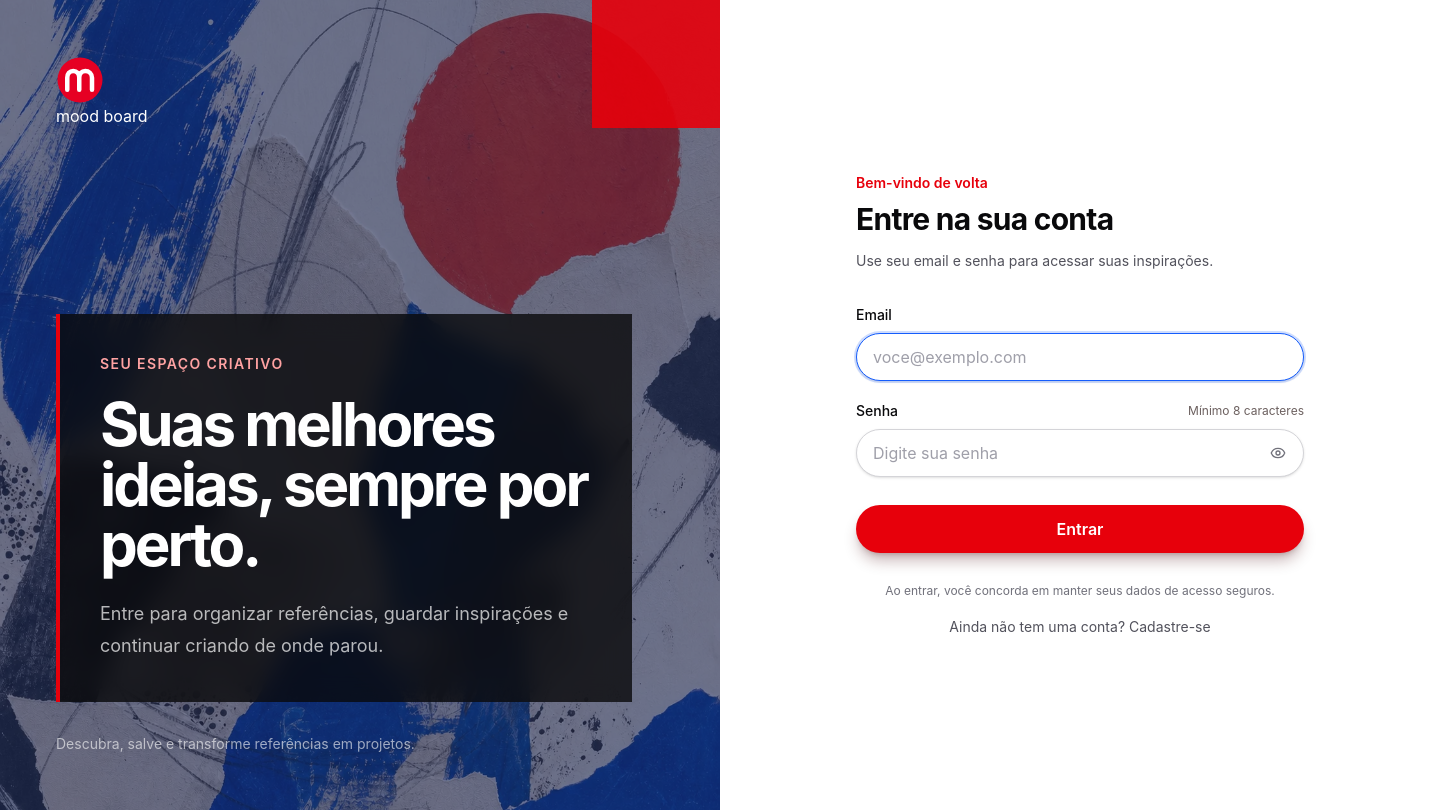
Test case: LoginPage › shows an authentication error returned by the API
Step 1. Type "user@example.com" into the field labelled "Email" → (1080,357), box [856, 333, 1304, 381]
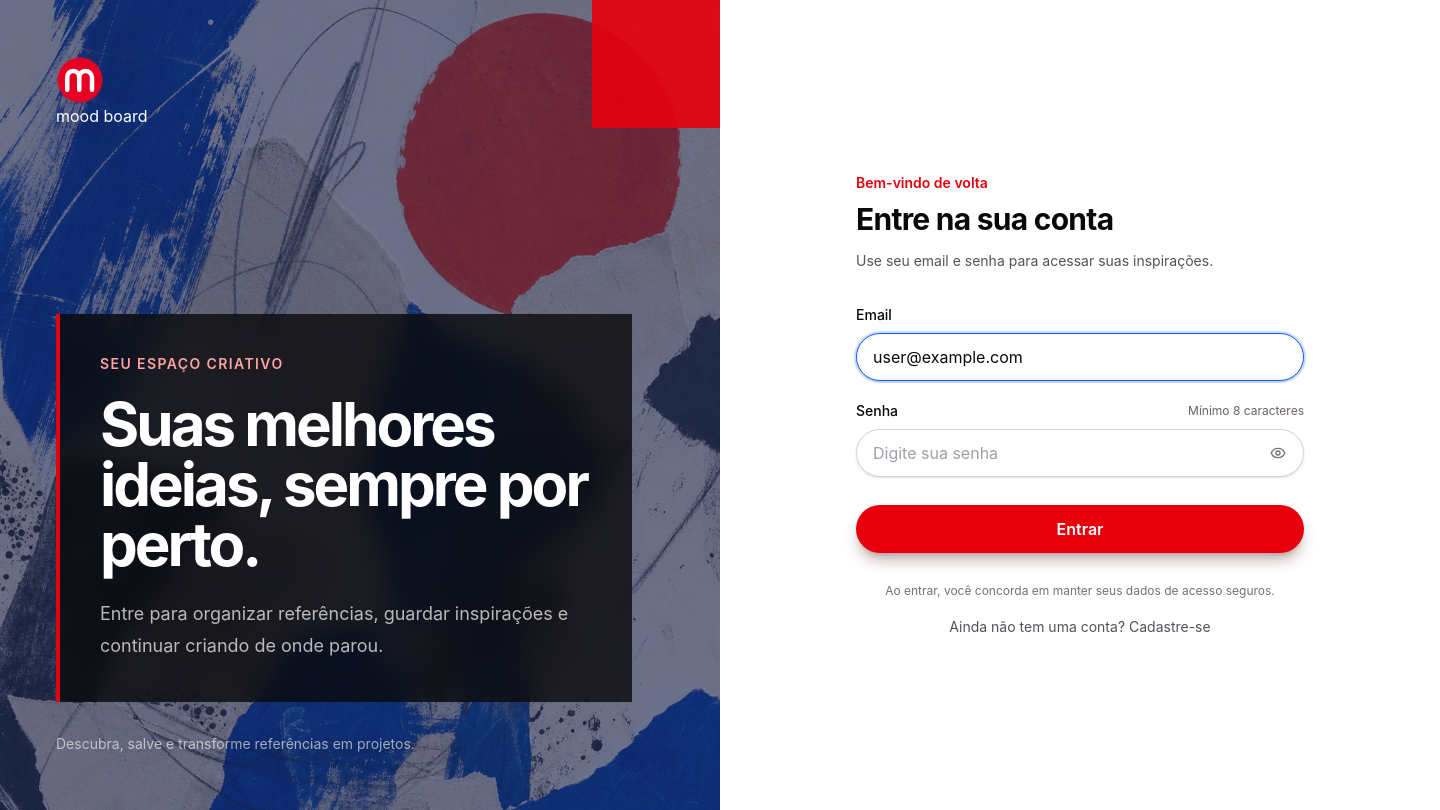
Step 2. Type "wrong-pass" into the password field labelled "Senha" → (1080,453), box [856, 429, 1304, 477]
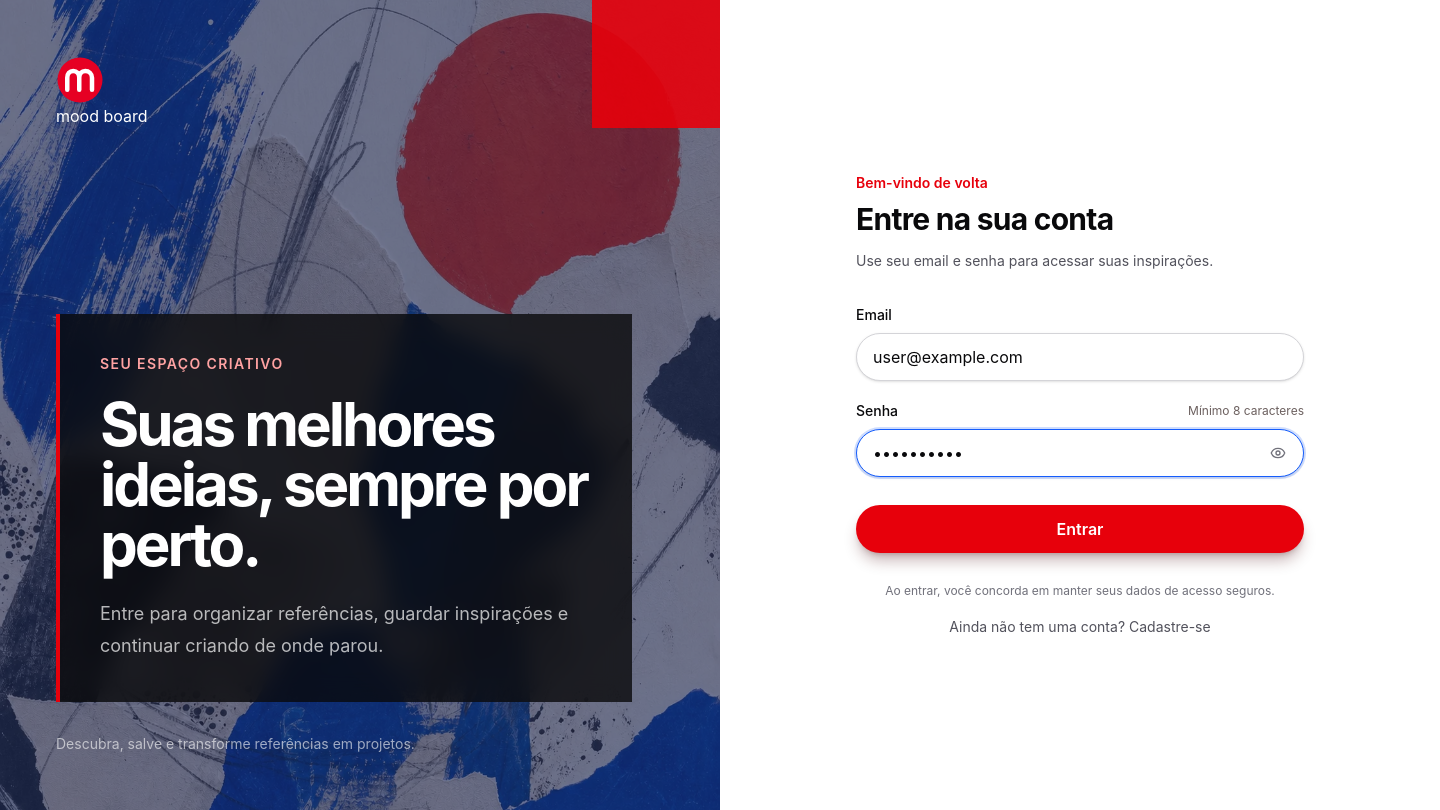
Step 3. Click the button "Entrar" → (1080,529), box [856, 505, 1304, 553]
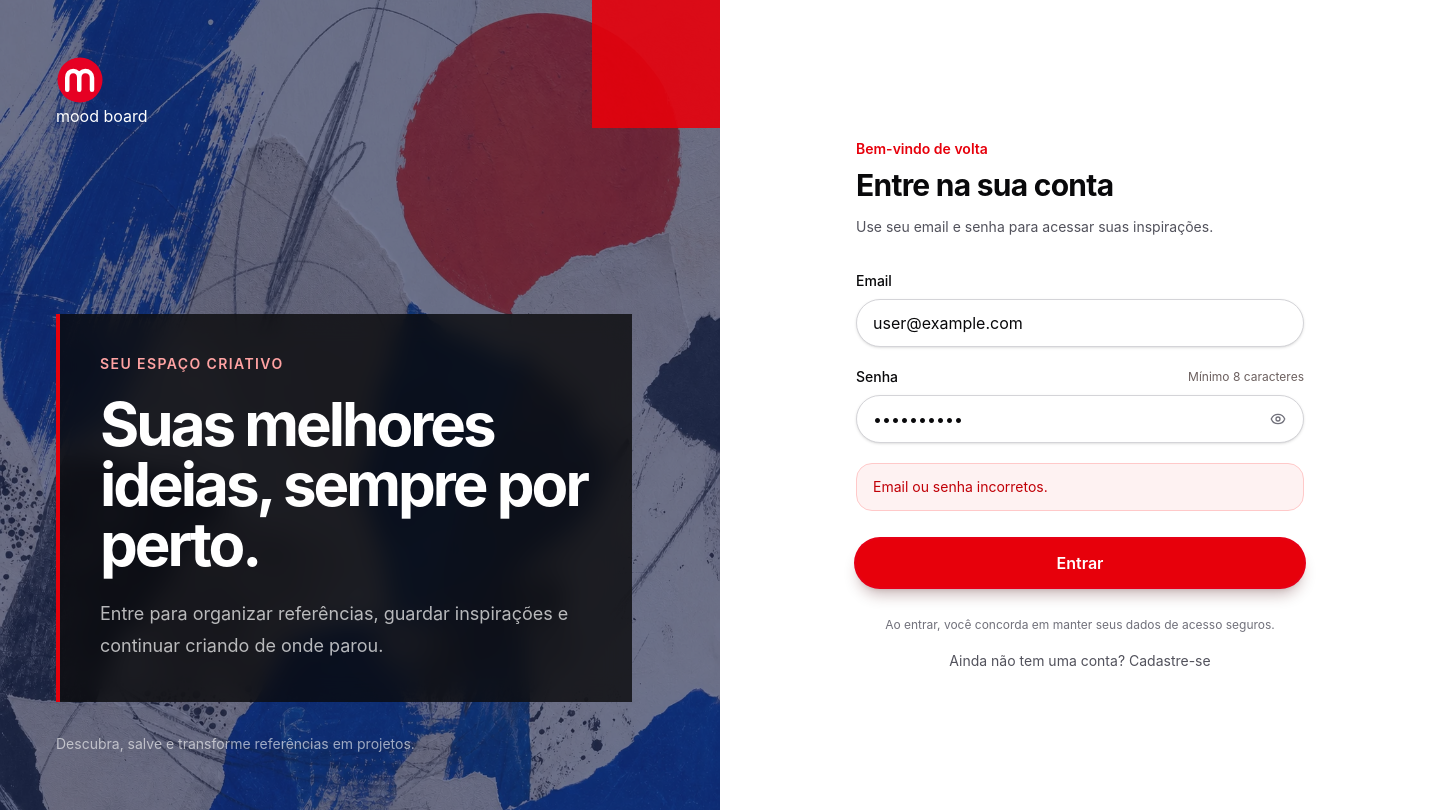
Result: the message reads "Email ou senha incorretos." at [873, 478, 1048, 495]
